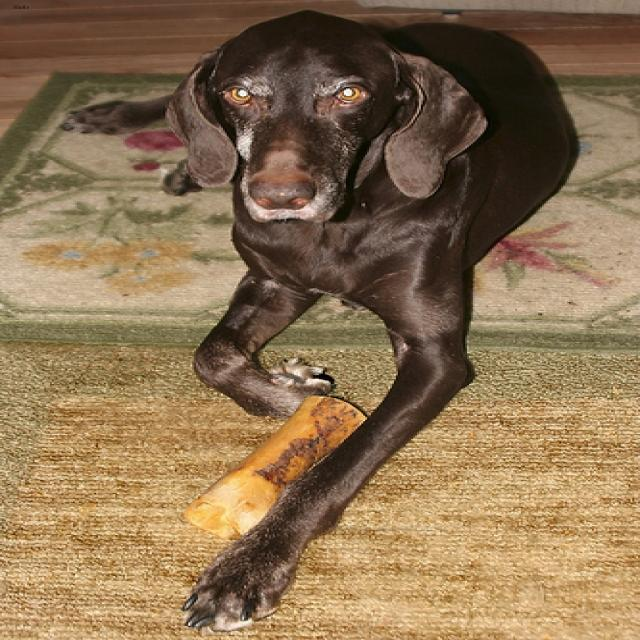dog-german_shorthaired: (46, 1, 602, 637)
